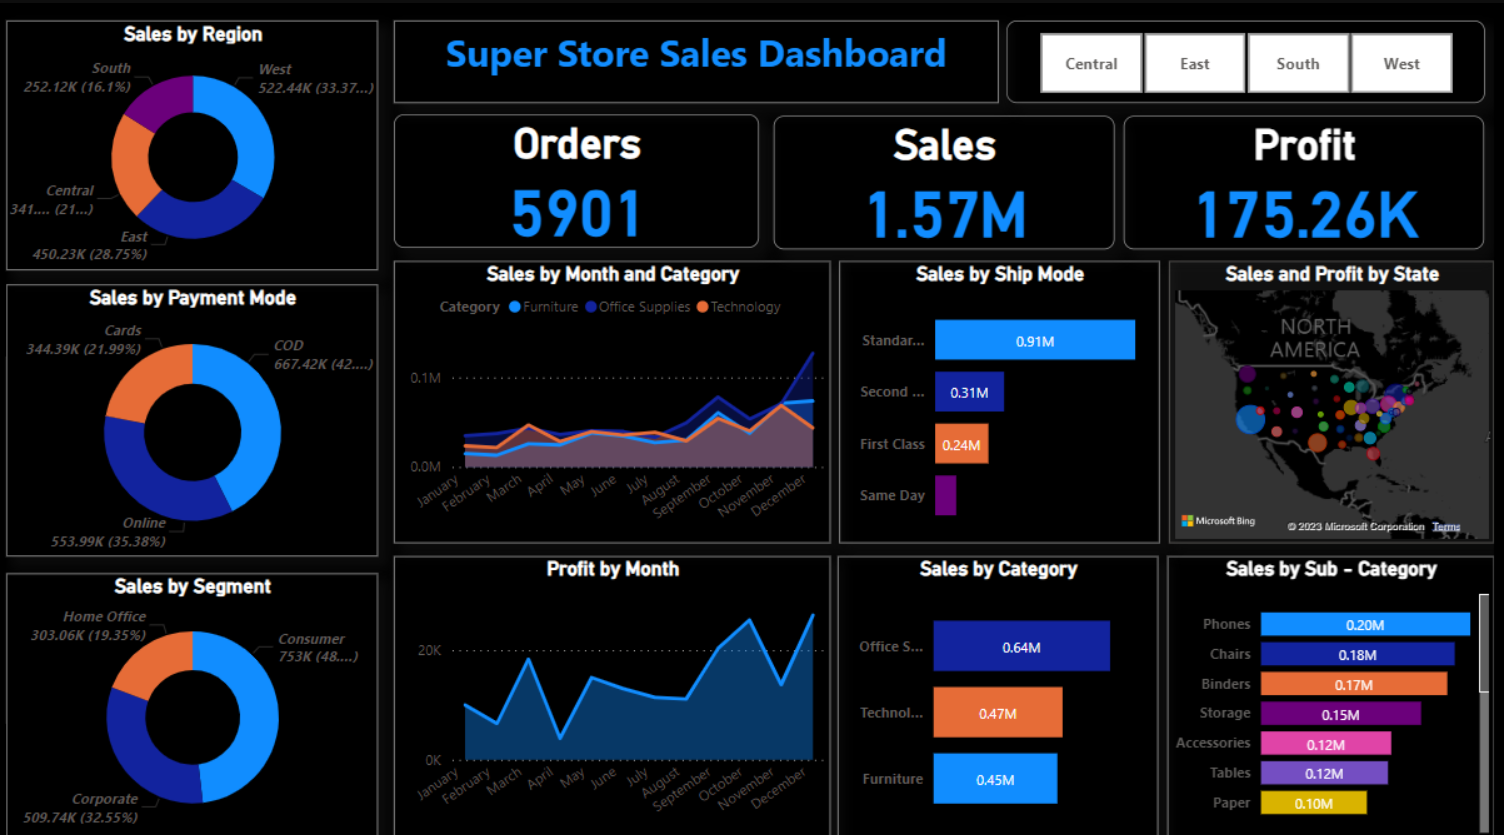

What the dashboard file says about the page in this screenshot:
{"tool":"powerbi","page":{"name":"Page 1","canvas":[1280,720],"ordinal":0},"visuals":[{"type":"donutChart","fields":{"Y":["Sum(SuperStore_Sales_Dataset _1_.Sales)"],"Category":["SuperStore_Sales_Dataset _1_.Payment Mode"]},"box":[0,242.9,319.7,234.6],"z":0},{"type":"donutChart","fields":{"Y":["Sum(SuperStore_Sales_Dataset _1_.Sales)"],"Category":["SuperStore_Sales_Dataset _1_.Region"]},"box":[0,15.9,320.3,215.1],"z":1000},{"type":"donutChart","fields":{"Y":["Sum(SuperStore_Sales_Dataset _1_.Sales)"],"Category":["SuperStore_Sales_Dataset _1_.Segment"]},"box":[0,492.6,319.7,227.8],"z":2000},{"type":"areaChart","title":"Sales by Month and Category","fields":{"Y":["Sum(SuperStore_Sales_Dataset _1_.Sales)"],"Category":["SuperStore_Sales_Dataset _1_.Date.Variation.Date Hierarchy.Month"],"Series":["SuperStore_Sales_Dataset _1_.Category"]},"box":[333.4,223.7,376,242.9],"z":3000},{"type":"areaChart","title":"Profit by Month","fields":{"Category":["SuperStore_Sales_Dataset _1_.Date.Variation.Date Hierarchy.Month"],"Y":["Sum(SuperStore_Sales_Dataset _1_.Profit)"]},"box":[333.4,477.5,376,242.9],"z":4000},{"type":"barChart","title":"Sales by Ship Mode","fields":{"Y":["Sum(SuperStore_Sales_Dataset _1_.Sales)"],"Series":["SuperStore_Sales_Dataset _1_.Ship Mode"],"Category":["SuperStore_Sales_Dataset _1_.Ship Mode"]},"box":[717.7,223.7,275.8,242.9],"z":5000},{"type":"barChart","title":"Sales by Category","fields":{"Y":["Sum(SuperStore_Sales_Dataset _1_.Sales)"],"Category":["SuperStore_Sales_Dataset _1_.Category"],"Series":["SuperStore_Sales_Dataset _1_.Category"]},"box":[716.3,477.1,275.8,242.9],"z":6000},{"type":"map","title":"Sales and Profit by State ","fields":{"Size":["Sum(SuperStore_Sales_Dataset _1_.Sales)"],"Series":["SuperStore_Sales_Dataset _1_.State"],"Category":["SuperStore_Sales_Dataset _1_.State"]},"box":[1000.3,223.7,279.9,242.9],"z":7000},{"type":"barChart","title":"Sales by Sub - Category","fields":{"Y":["Sum(SuperStore_Sales_Dataset _1_.Sales)"],"Category":["SuperStore_Sales_Dataset _1_.Sub-Category"],"Series":["SuperStore_Sales_Dataset _1_.Sub-Category"]},"box":[999,477.5,281.3,242.9],"z":8000},{"type":"card","title":"Orders","fields":{"Values":["CountNonNull(SuperStore_Sales_Dataset _1_.Order ID)"]},"box":[333.4,97.4,314.2,115.3],"z":9000},{"type":"card","title":"Sales","fields":{"Values":["Sum(SuperStore_Sales_Dataset _1_.Sales)"]},"box":[660.1,97.8,293.4,114.9],"z":10000},{"type":"card","title":"Profit","fields":{"Values":["Sum(SuperStore_Sales_Dataset _1_.Profit)"]},"box":[962,97.8,310.5,114.9],"z":11000},{"type":"slicer","fields":{"Values":["SuperStore_Sales_Dataset _1_.Region"]},"box":[860.4,16.5,411.7,71.4],"z":12000},{"type":"textbox","box":[333.7,15.9,520.7,70.9],"z":13000}]}

Visuals, with their boxes in screenshot pixels (x1, y1, x2, y2), scaled from the page's 1280x720 canvas onto the 1504x835 screenshot:
donutChart - Sum(SuperStore_Sales_Dataset _1_.Sales) x SuperStore_Sales_Dataset _1_.Payment Mode: bbox=[0, 282, 376, 554]
donutChart - Sum(SuperStore_Sales_Dataset _1_.Sales) x SuperStore_Sales_Dataset _1_.Region: bbox=[0, 18, 376, 268]
donutChart - Sum(SuperStore_Sales_Dataset _1_.Sales) x SuperStore_Sales_Dataset _1_.Segment: bbox=[0, 571, 376, 834]
"Sales by Month and Category" areaChart: bbox=[392, 259, 834, 541]
"Profit by Month" areaChart: bbox=[392, 554, 834, 834]
"Sales by Ship Mode" barChart: bbox=[843, 259, 1167, 541]
"Sales by Category" barChart: bbox=[842, 553, 1166, 834]
"Sales and Profit by State " map: bbox=[1175, 259, 1503, 541]
"Sales by Sub - Category" barChart: bbox=[1174, 554, 1503, 834]
"Orders" card: bbox=[392, 113, 761, 247]
"Sales" card: bbox=[776, 113, 1120, 247]
"Profit" card: bbox=[1130, 113, 1495, 247]
slicer - SuperStore_Sales_Dataset _1_.Region: bbox=[1011, 19, 1495, 102]
textbox: bbox=[392, 18, 1004, 101]
